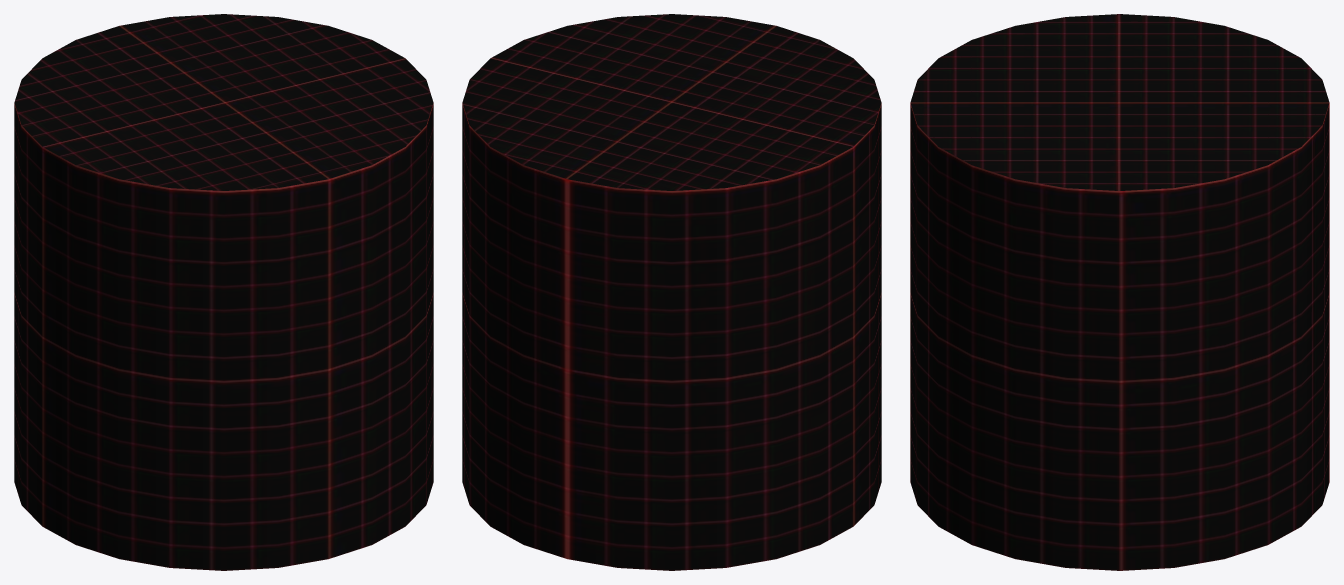
3 renders of one model, left to right at view 1: azimuth 30°, elevation 25°; view 2: azimuth 150°, elevation 25°; view 3: azimuth 270°, elevation 25°, orthographic.
Parts seen in each view (by area): view 1: SM_Placeholder_Cylinder_LOD0; view 2: SM_Placeholder_Cylinder_LOD0; view 3: SM_Placeholder_Cylinder_LOD0.
Boxes of the visible parts, x1=… form: SM_Placeholder_Cylinder_LOD0: x1=14, y1=14, x2=433, y2=570; SM_Placeholder_Cylinder_LOD0: x1=462, y1=14, x2=881, y2=570; SM_Placeholder_Cylinder_LOD0: x1=910, y1=14, x2=1329, y2=570.
Bounding box in the file's own units: 1 × 1 × 1.
1 material, 1 textured.
